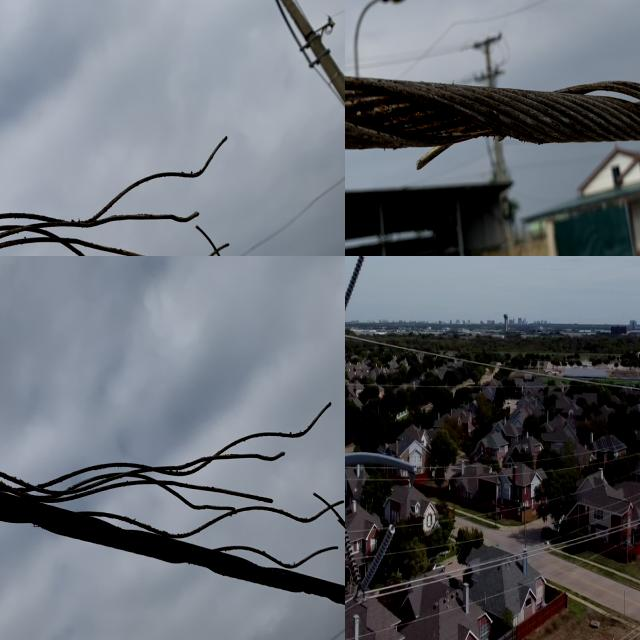正常绝缘子: (350, 503, 406, 611), (345, 509, 369, 607), (345, 256, 371, 322)
电缆破损: (0, 376, 345, 632), (0, 119, 319, 256), (507, 0, 640, 146)
